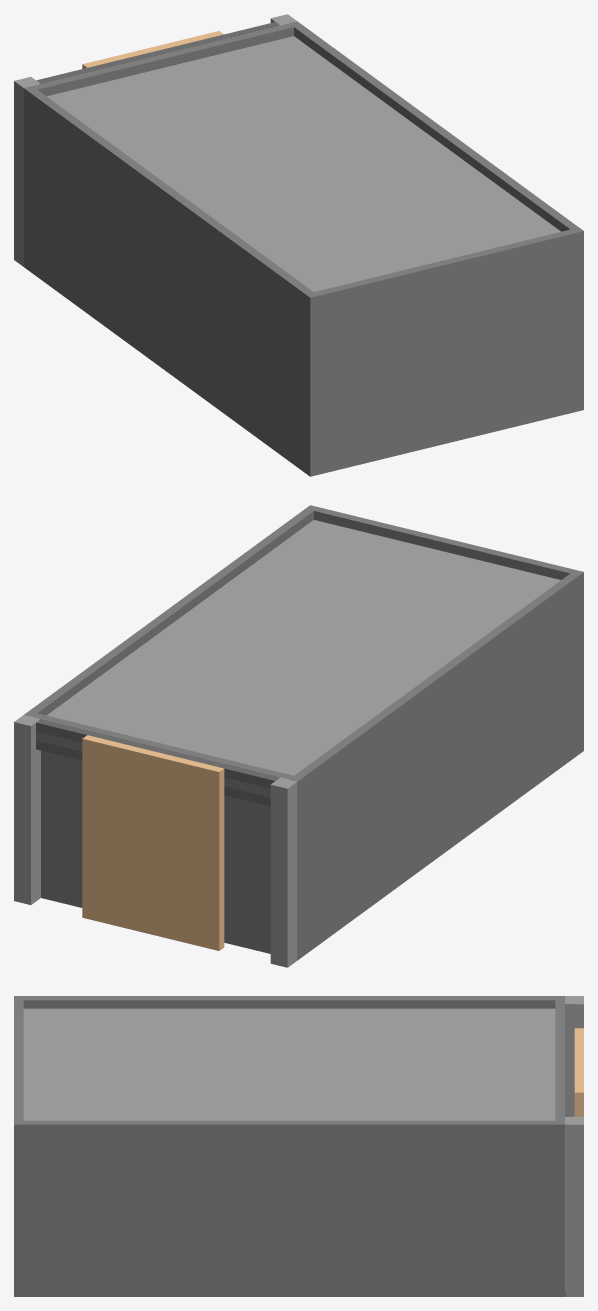
The model's file is obj_story06a.fbx.
3 views of the same model, one above another, from view 1: azimuth 30°, elevation 25°; view 2: azimuth 150°, elevation 25°; view 3: azimuth 270°, elevation 25° (orthographic). The views are drawn at different scales.
Parts seen in each view (by area): view 1: obj_story06a; view 2: obj_story06a; view 3: obj_story06a.
Part boxes in pixels (x1=…): obj_story06a: x1=14, y1=14, x2=583, y2=476; obj_story06a: x1=14, y1=505, x2=583, y2=967; obj_story06a: x1=14, y1=996, x2=583, y2=1296.
Size of the model in its own units: 3.2 by 6 by 2.
Materials: 1 (1 with a texture image).
